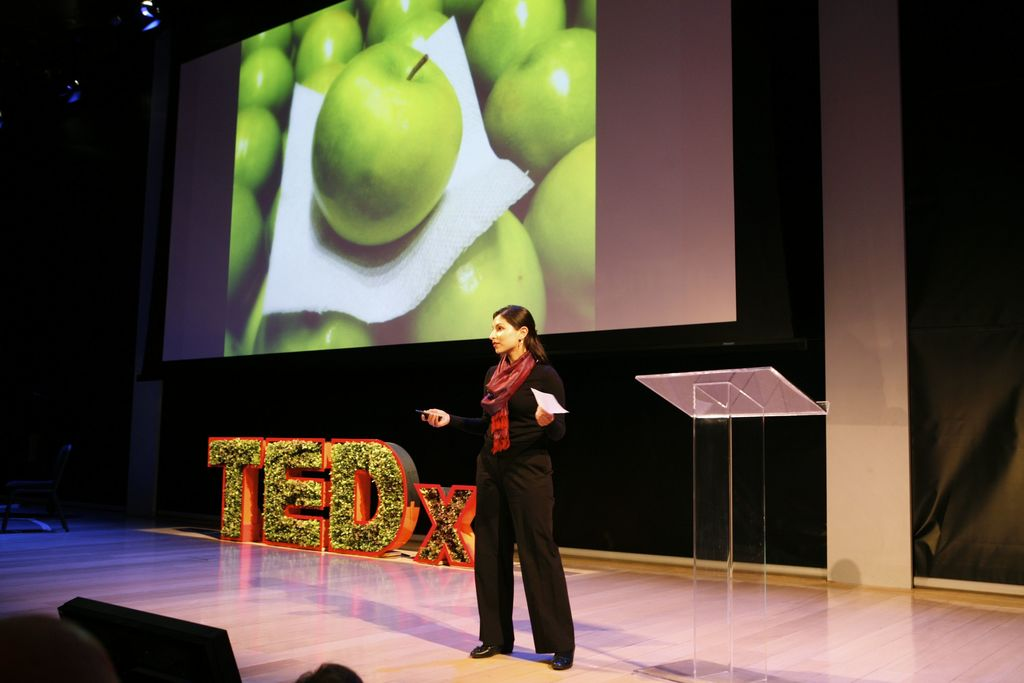Apple: (236, 0, 625, 342), (318, 44, 466, 246)
